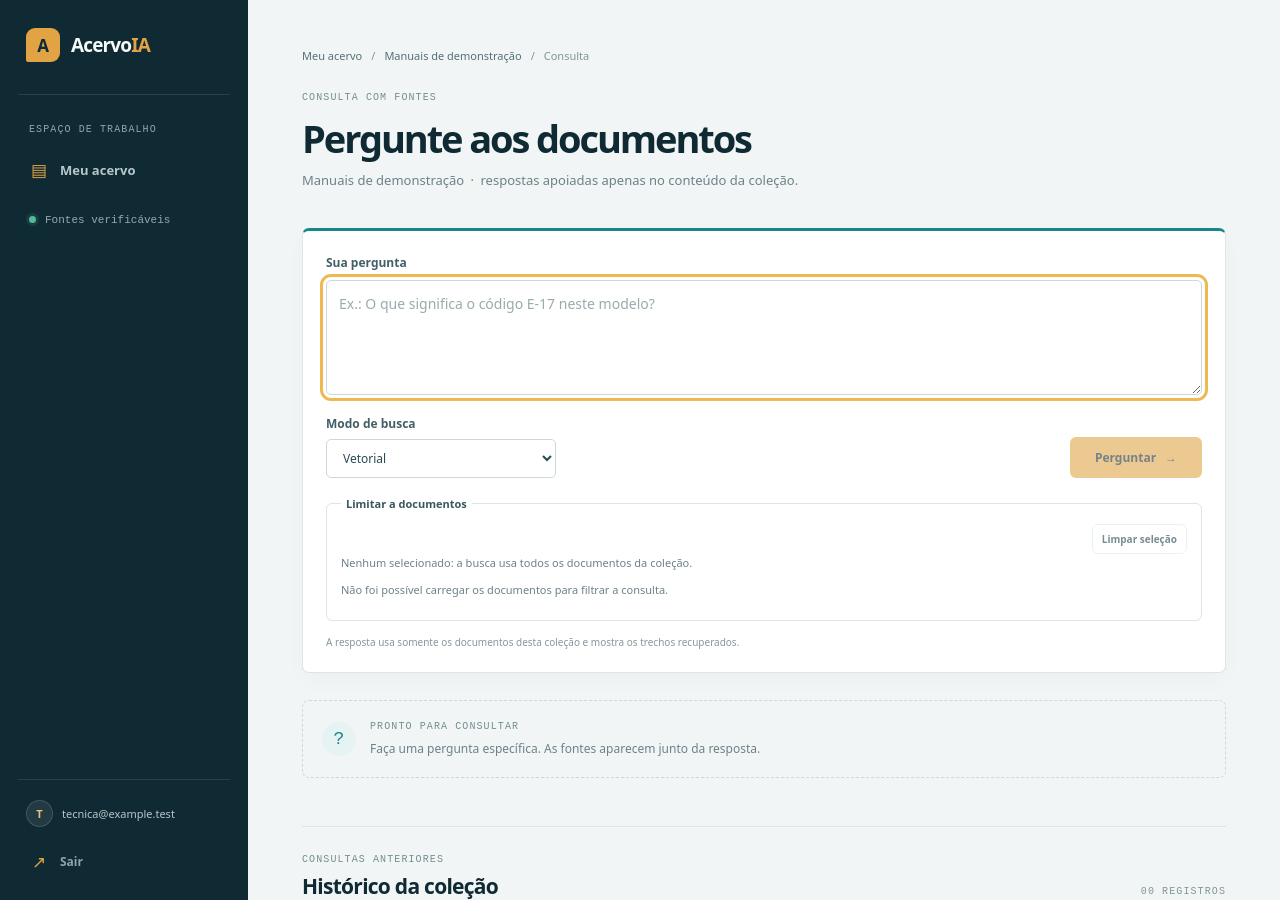
Test case: AcervoIA web flows › explains Ollama unavailability on a question without leaking a stack trace
In the text box labelled "Sua pergunta": (764,338) top-left (326, 280), bottom-right (1202, 395), type "Qual alimentação?"
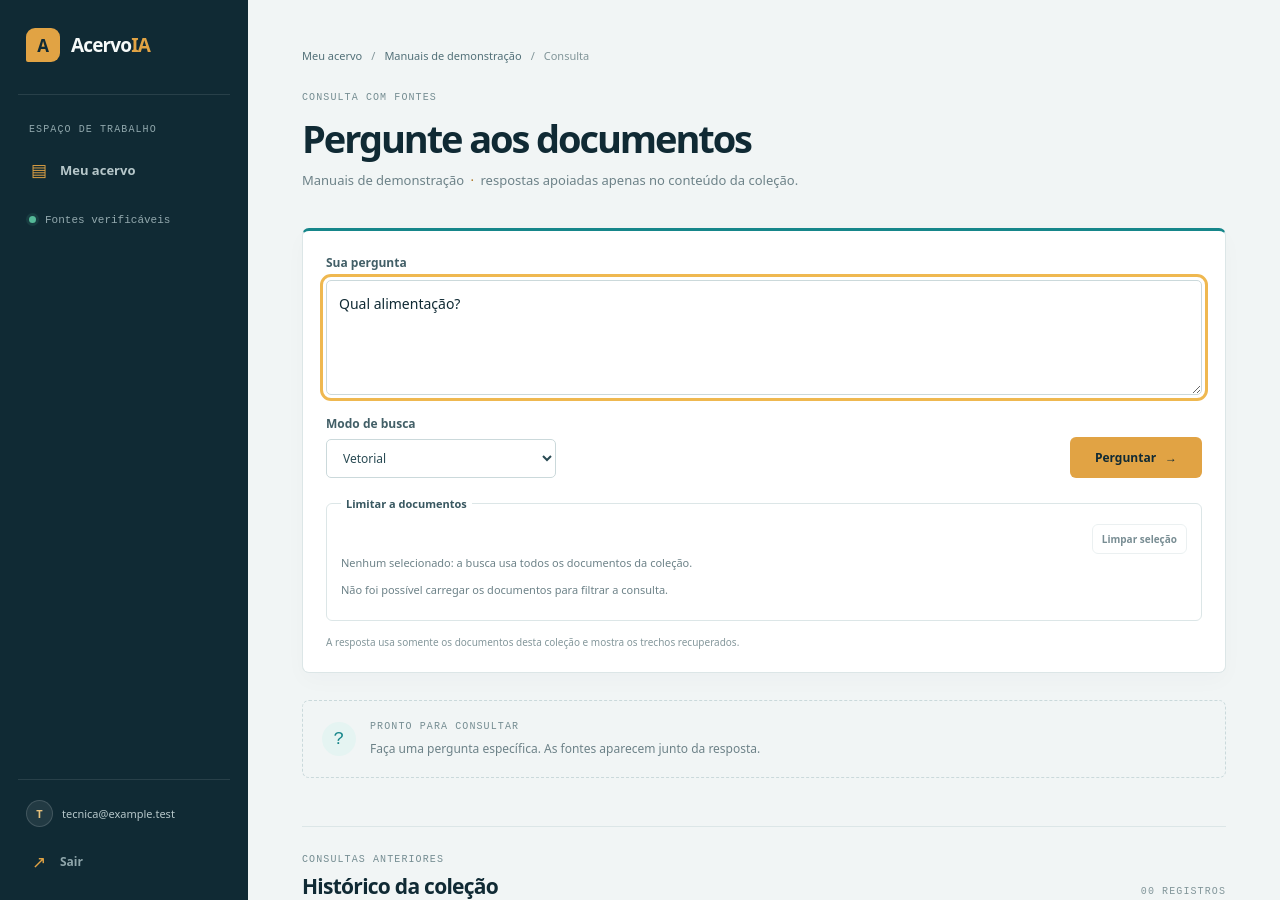
Click the button "Perguntar →": (1136,458) top-left (1070, 437), bottom-right (1202, 478)
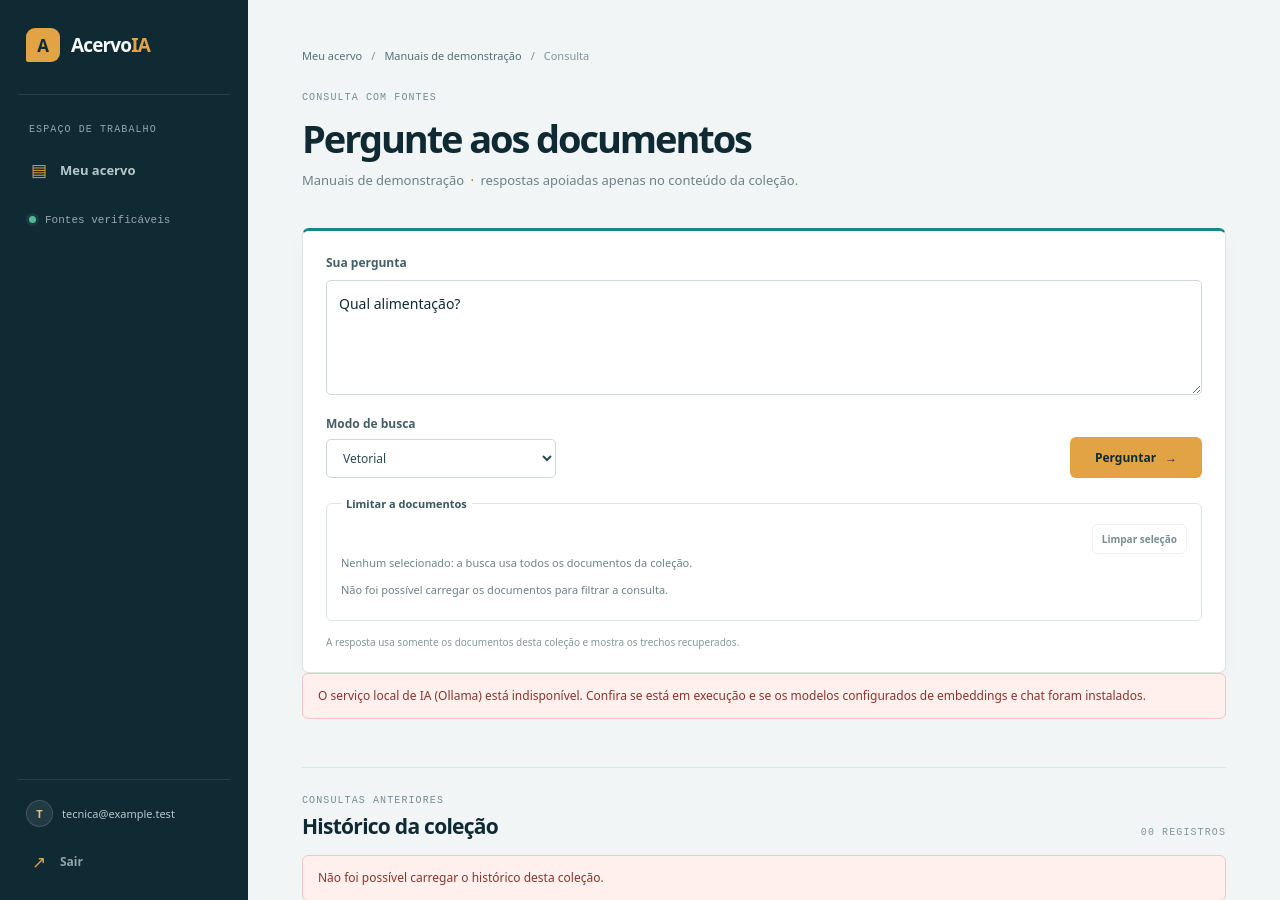
Now the 2nd message shows "Ollama", box top-left (318, 687), bottom-right (1146, 704)
